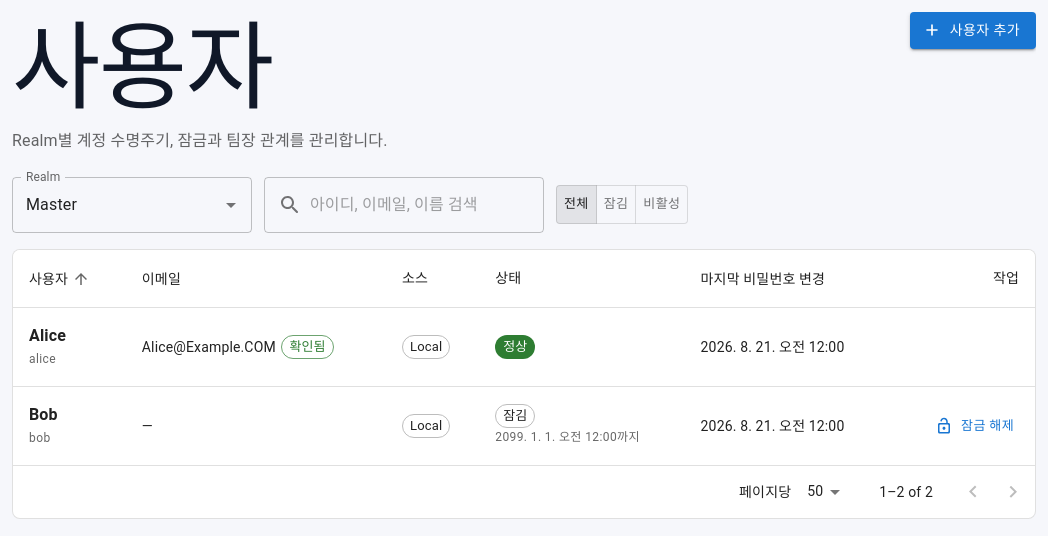
the status filter narrows the list to locked accounts
expect the text "Alice" is shown: met, box [29,326,66,345]
expect the text "Bob" is shown: met, box [29,405,58,424]
Click the button "잠김" at (616, 205), box [596,186,636,224]
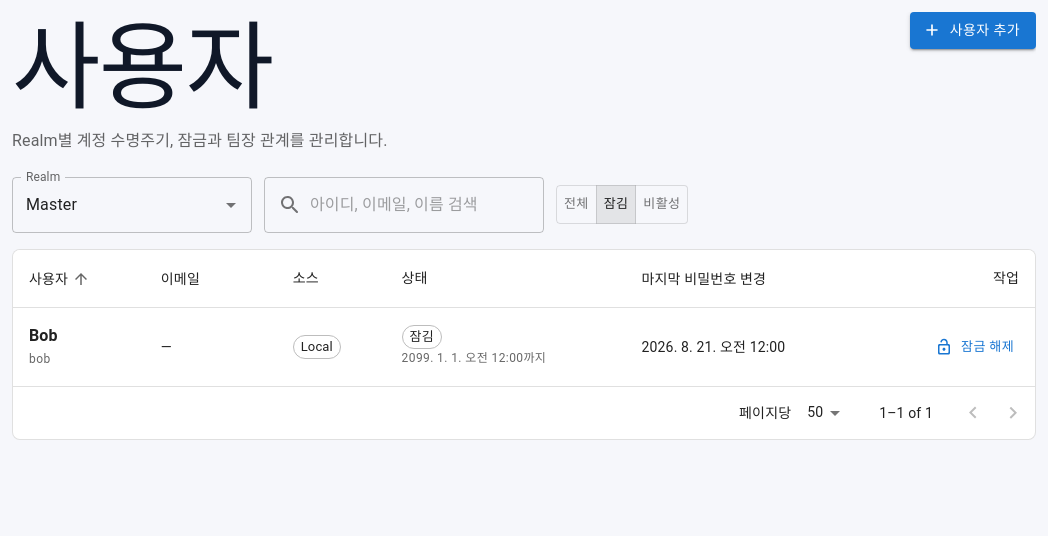
expect the text "Bob" is shown: met, box [29,326,58,345]
expect the text "Alice" is gone: met
expect the text "1–1 of 1" is shown: met, box [879,403,933,423]
